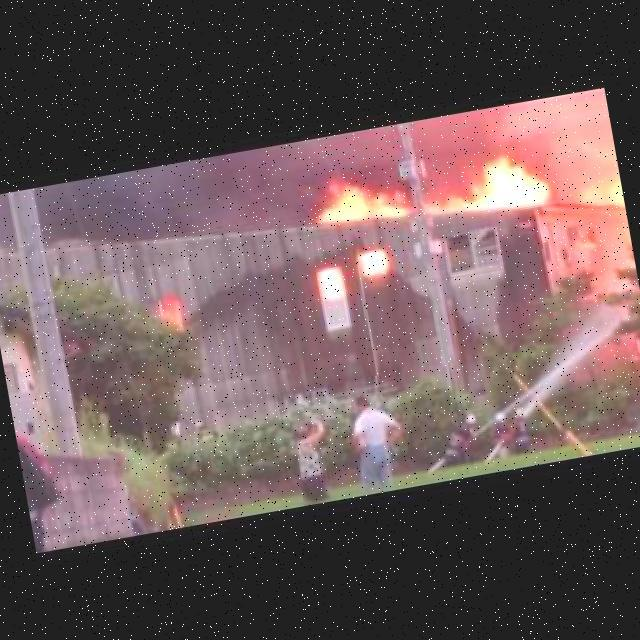Fire: (420, 141, 553, 226), (307, 168, 411, 230), (158, 296, 187, 332)
